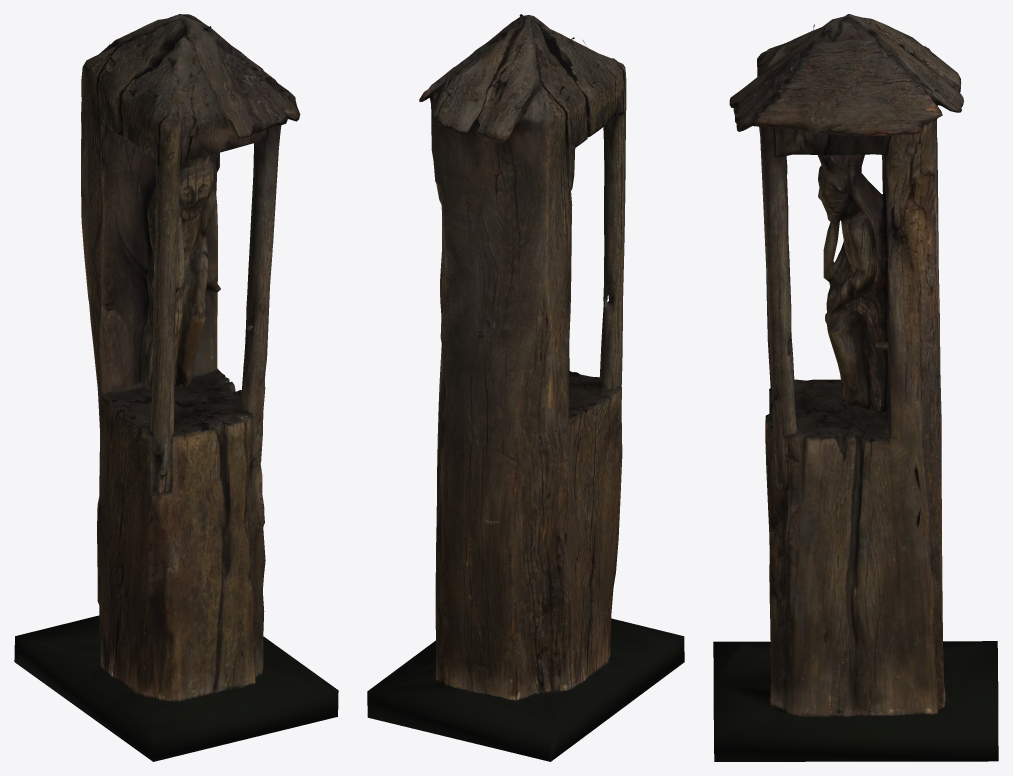
File: wayside_shrine.glb
The picture shows the model from 3 angles, left to right: view 1: azimuth 30°, elevation 25°; view 2: azimuth 150°, elevation 25°; view 3: azimuth 270°, elevation 25°; orthographic projection. The views are drawn at different scales.
Visible parts, largest first — view 1: kapliczka_slupowa_LR_kapliczka_0; view 2: kapliczka_slupowa_LR_kapliczka_0; view 3: kapliczka_slupowa_LR_kapliczka_0.
Boxes of the visible parts, bbox=[...] form: kapliczka_slupowa_LR_kapliczka_0: bbox=[14, 14, 338, 761]; kapliczka_slupowa_LR_kapliczka_0: bbox=[367, 14, 684, 761]; kapliczka_slupowa_LR_kapliczka_0: bbox=[713, 14, 998, 761].
Size of the model in its own units: 72.13 by 250 by 91.99.
Materials: 1 (1 with a texture image).
